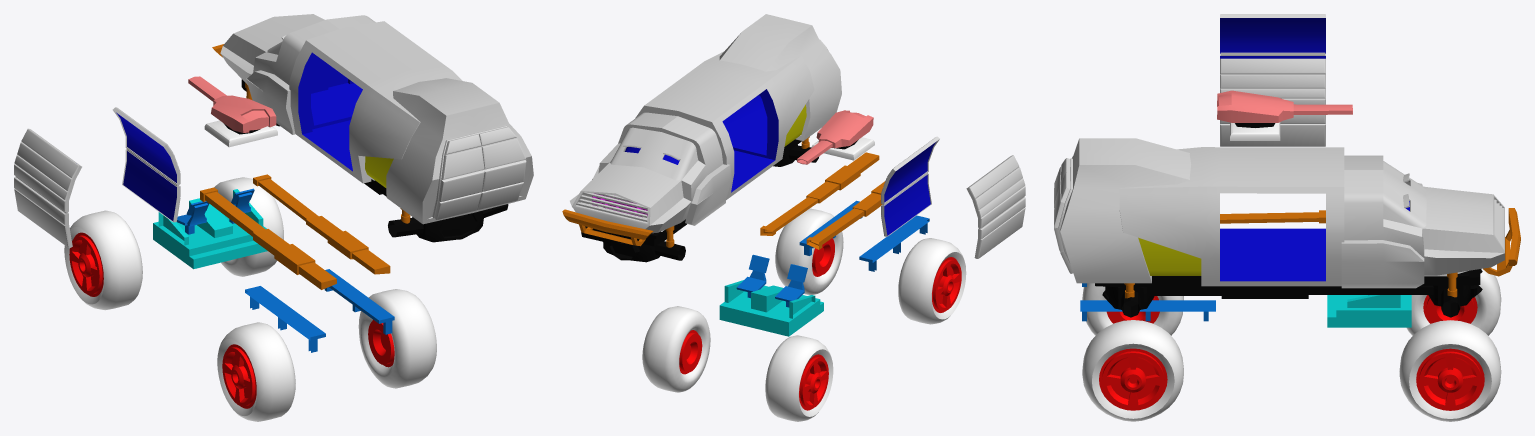
File: Crawler_vehicle_Exploded.fbx
The picture shows the model from 3 angles, left to right: view 1: azimuth 30°, elevation 25°; view 2: azimuth 150°, elevation 25°; view 3: azimuth 270°, elevation 25°; orthographic projection. The views are drawn at different scales.
Visible parts, largest first — view 1: Hull, Interior, Closed_side_door, Wheel.001, Wheel, Wheel.003, Cannon, Wheel.002; view 2: Hull, Interior, Closed_side_door, Wheel, Wheel.001, Wheel.002, Wheel.003, Cannon; view 3: Hull, Closed_side_door, Wheel.003, Wheel.002, Interior, Cannon, Wheel, Wheel.001.
Part boxes in pixels (bbox=[...]): Hull: bbox=[212, 14, 533, 242]; Interior: bbox=[153, 174, 394, 352]; Closed_side_door: bbox=[14, 107, 180, 247]; Wheel.001: bbox=[217, 322, 295, 421]; Wheel: bbox=[64, 210, 142, 310]; Wheel.003: bbox=[358, 289, 436, 388]; Cannon: bbox=[188, 76, 277, 147]; Wheel.002: bbox=[214, 177, 283, 276]; Hull: bbox=[562, 14, 841, 262]; Interior: bbox=[719, 152, 929, 336]; Closed_side_door: bbox=[881, 136, 1025, 258]; Wheel: bbox=[765, 335, 833, 421]; Wheel.001: bbox=[898, 238, 966, 324]; Wheel.002: bbox=[642, 306, 710, 392]; Wheel.003: bbox=[775, 208, 843, 294]; Cannon: bbox=[797, 110, 874, 164]; Hull: bbox=[1054, 138, 1520, 317]; Closed_side_door: bbox=[1220, 14, 1325, 146]; Wheel.003: bbox=[1082, 320, 1183, 421]; Wheel.002: bbox=[1399, 320, 1501, 421]; Interior: bbox=[1080, 210, 1411, 327]; Cannon: bbox=[1217, 90, 1352, 140]; Wheel: bbox=[1406, 268, 1501, 335]; Wheel.001: bbox=[1082, 283, 1183, 335].
Bounding box in the file's own units: 1015 × 1045 × 699.
